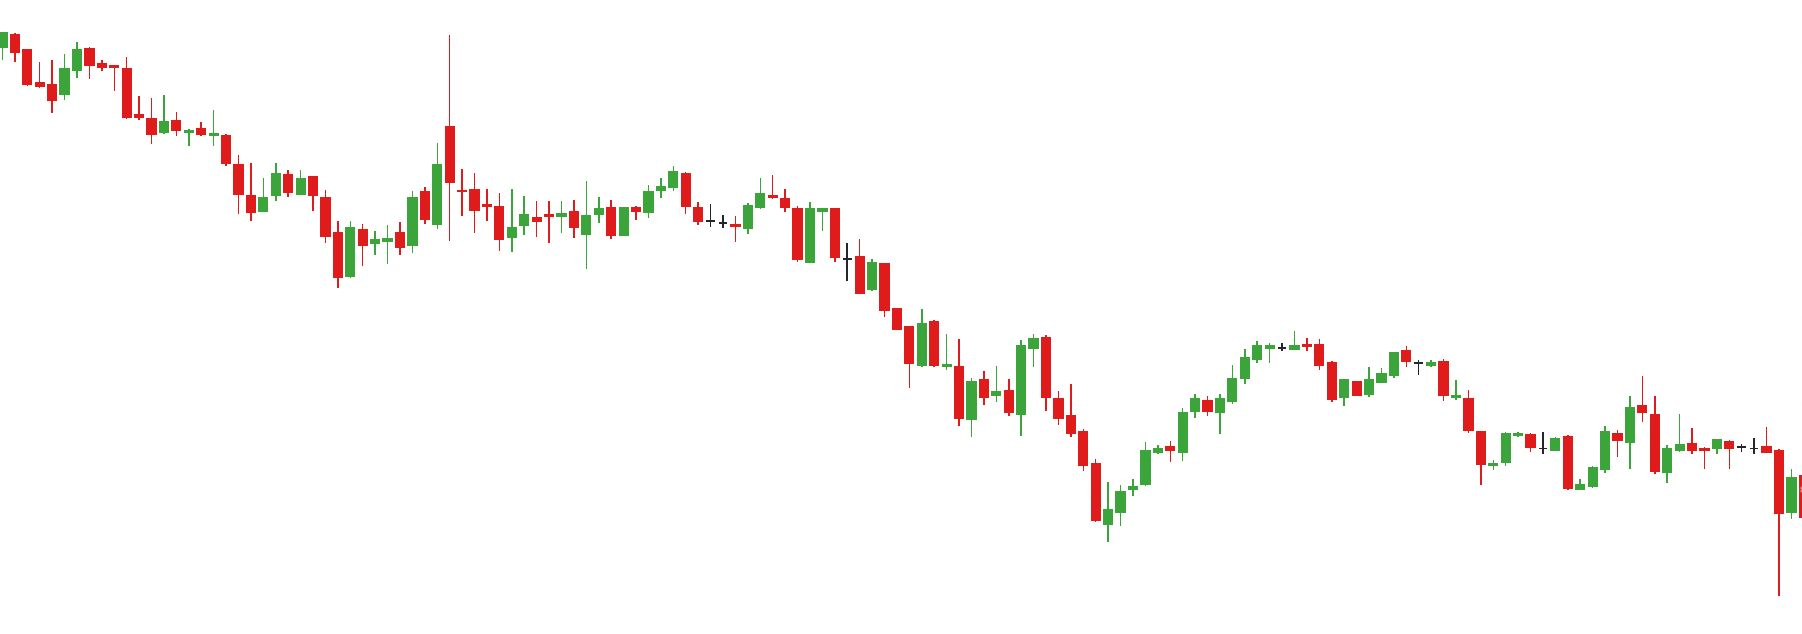sell: (271, 34, 457, 221)
